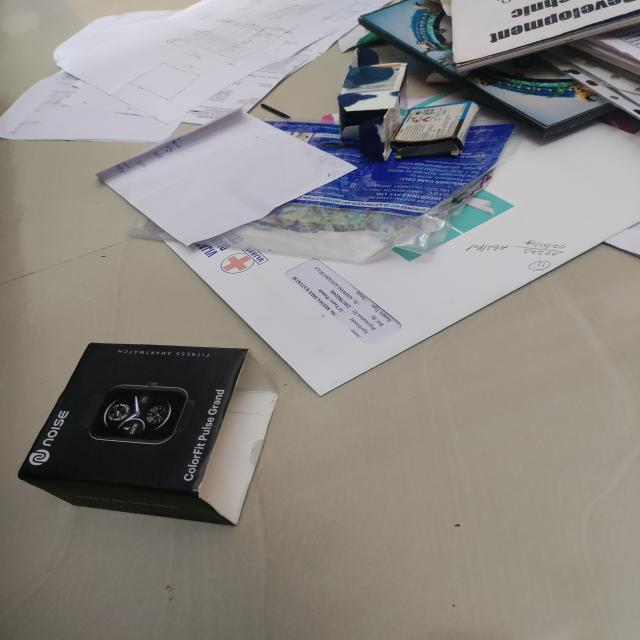dry: (12, 12, 640, 320), (45, 306, 284, 553)
